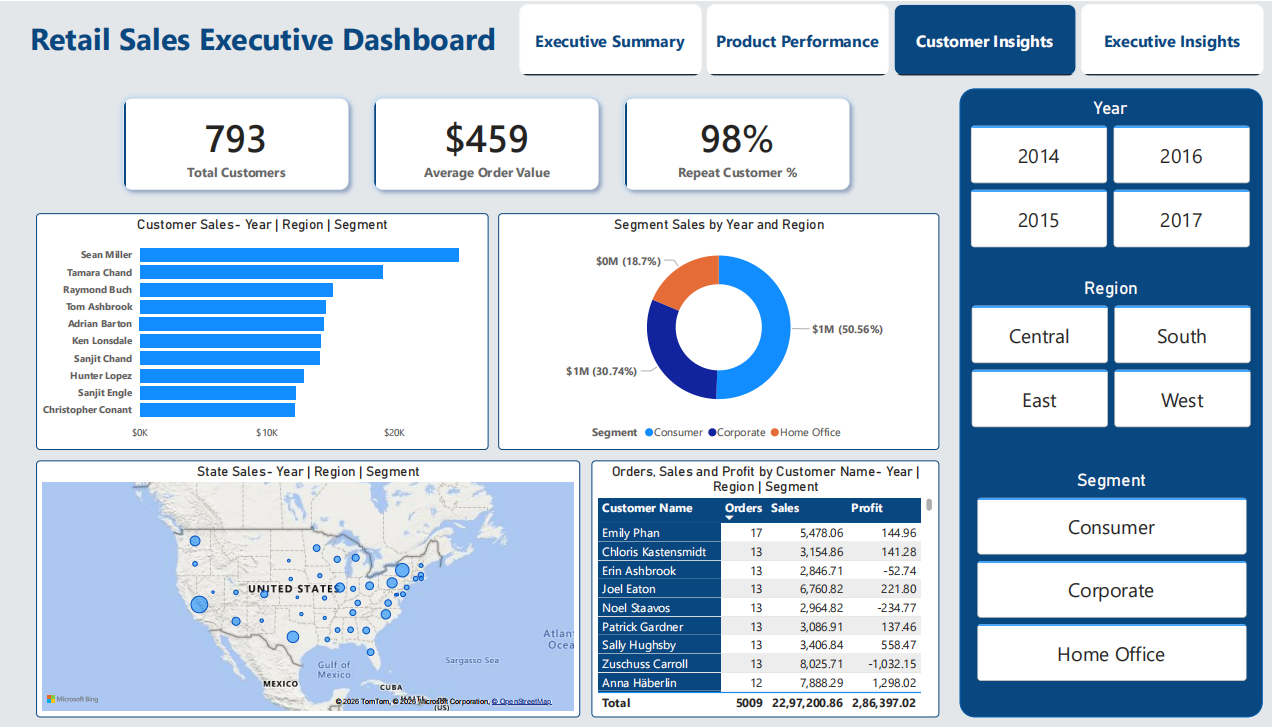

What the dashboard file says about the page in this screenshot:
{"tool":"powerbi","page":{"name":"Customer Insights Dashboard","canvas":[1280,720],"ordinal":2},"visuals":[{"type":"cardVisual","fields":{"Data":["Customers.Total Customers","Orders.Average Order Value","Orders.Repeat Customer %"]},"box":[216.8,46.7,779.4,104.3],"z":0},{"type":"barChart","title":"Top Customers by Sales","fields":{"Category":["Customers.Customer Name"],"Y":["Orders.Total Sales"]},"box":[41.2,150.9,599.7,292.3],"z":1000},{"type":"donutChart","title":"Sales by Segment","fields":{"Category":["Customers.Segment"],"Y":["Orders.Total Sales"]},"box":[639.5,150.9,599.7,271.7],"z":2000},{"type":"map","fields":{"Category":["Customers.State"],"Size":["Orders.Total Sales"]},"box":[41.2,447.3,462.4,271.7],"z":3000},{"type":"tableEx","fields":{"Values":["Customers.Customer Name","Orders.Order ID","Sum(Orders.Sales)","Sum(Orders.Profit)"]},"box":[517.3,446.1,393.8,271.7],"z":4000},{"type":"listSlicer","fields":{"Values":["Regions.Region"]},"box":[941.3,564,109.8,155.1],"z":5000},{"type":"listSlicer","fields":{"Values":["Date Table.Year"]},"box":[1103.3,568.1,109.8,150.9],"z":6000},{"type":"listSlicer","fields":{"Values":["Customers.Segment"]},"box":[941.3,436.4,271.7,119.4],"z":7000},{"type":"pageNavigator","box":[492.3,2.7,787.7,49.4],"z":7001}]}

Visuals, with their boxes in screenshot pixels (x1, y1, x2, y2), scaled from the page's 1280x720 canvas onto the 1272x727 screenshot:
cardVisual - Customers.Total Customers x Orders.Average Order Value: box(215, 47, 990, 152)
"Top Customers by Sales" barChart: box(41, 152, 637, 448)
"Sales by Segment" donutChart: box(636, 152, 1231, 427)
map - Customers.State x Orders.Total Sales: box(41, 452, 500, 726)
tableEx - Customers.Customer Name x Orders.Order ID: box(514, 450, 905, 725)
listSlicer - Regions.Region: box(935, 569, 1045, 726)
listSlicer - Date Table.Year: box(1096, 574, 1206, 726)
listSlicer - Customers.Segment: box(935, 441, 1205, 561)
pageNavigator: box(489, 3, 1271, 53)
